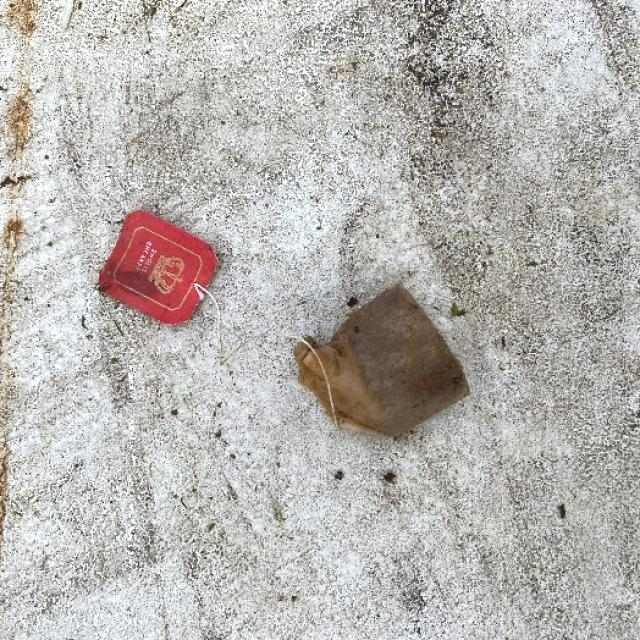wet: (302, 284, 474, 432)
